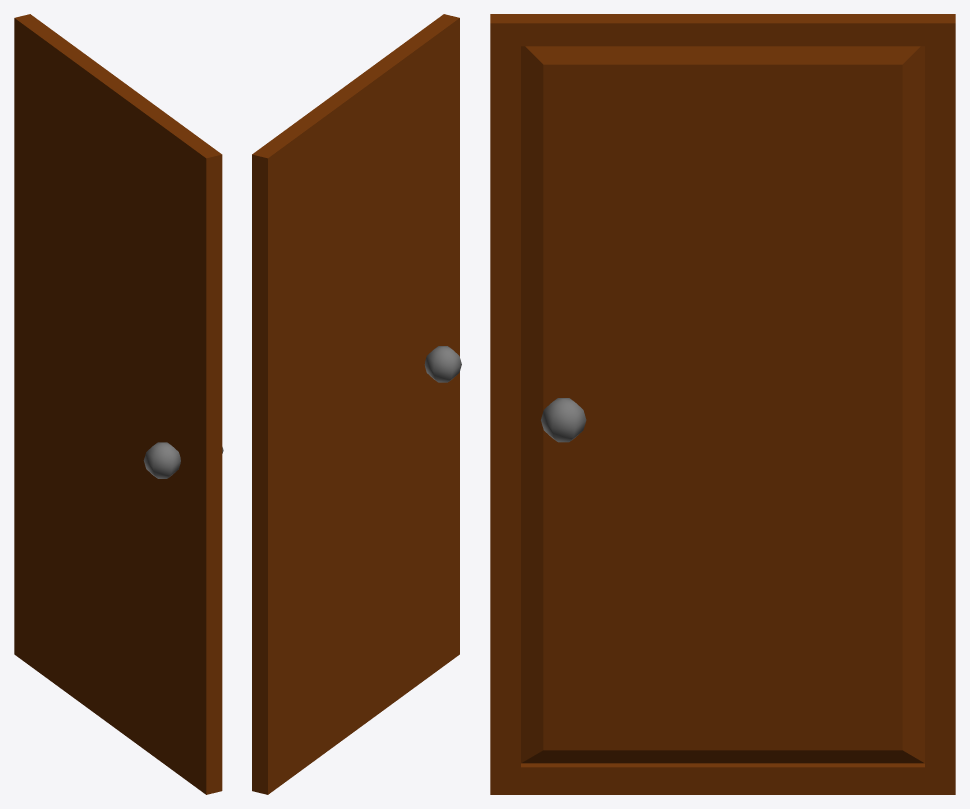
The model's file is Porta.dae.
3 renders of one model, left to right at view 1: azimuth 30°, elevation 25°; view 2: azimuth 150°, elevation 25°; view 3: azimuth 270°, elevation 25°, orthographic. The views are drawn at different scales.
Parts seen in each view (by area): view 1: Plane; view 2: Plane; view 3: Plane.
Boxes of the visible parts, x1,y1,x2,y2 form: Plane: [14, 14, 223, 794]; Plane: [252, 14, 461, 794]; Plane: [490, 14, 955, 794].
Bounding box in the file's own units: 1.26 × 5.94 × 10.87.
